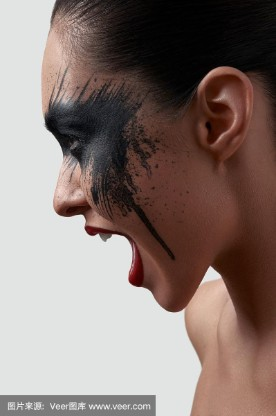张嘴: (81, 215, 158, 285)
